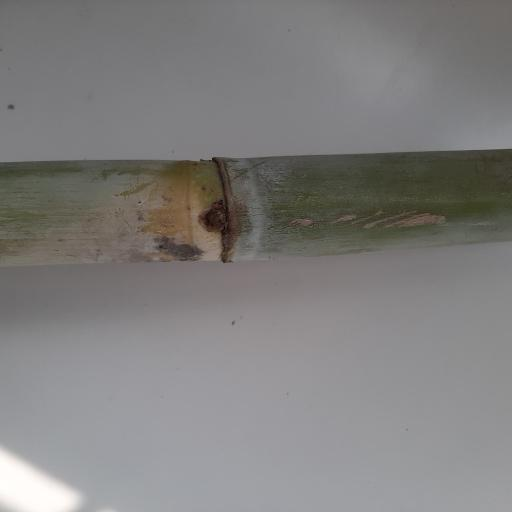Bud: (201, 206, 225, 229)
